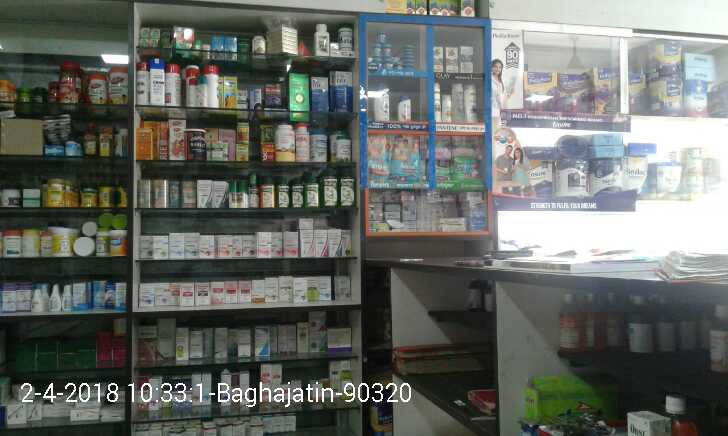vicks: (377, 30, 389, 44), (403, 57, 414, 69), (373, 58, 384, 70), (380, 45, 391, 57), (393, 56, 403, 69), (384, 57, 393, 70), (405, 44, 415, 55), (373, 45, 380, 57)
